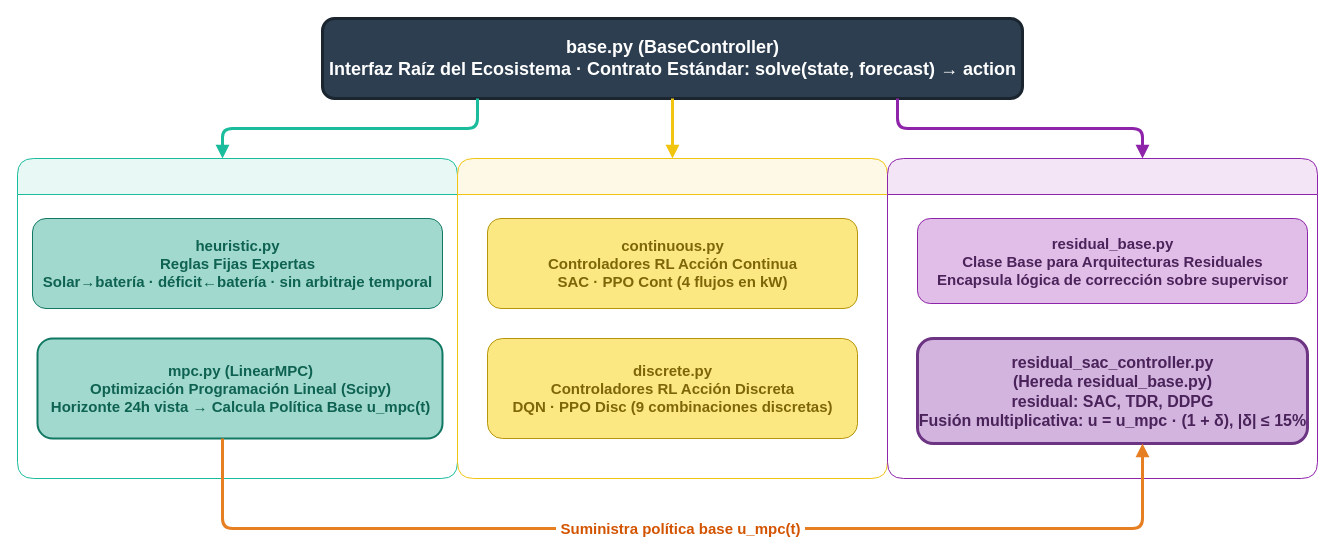
Some shapes in this 1335 by 555 pixel diagram are drawn without their labels. Here are the shapes that lost their labels. From the top down, the box of each, then its label:
(16, 158, 458, 478): FAMILIA 1 · CONTROLADORES CLÁSICOS Y BASELINES
(456, 158, 888, 478): FAMILIA 2 · APRENDIZAJE POR REFUERZO PURO
(886, 158, 1318, 478): FAMILIA 3 · CONTROL HÍBRIDO RESIDUAL
